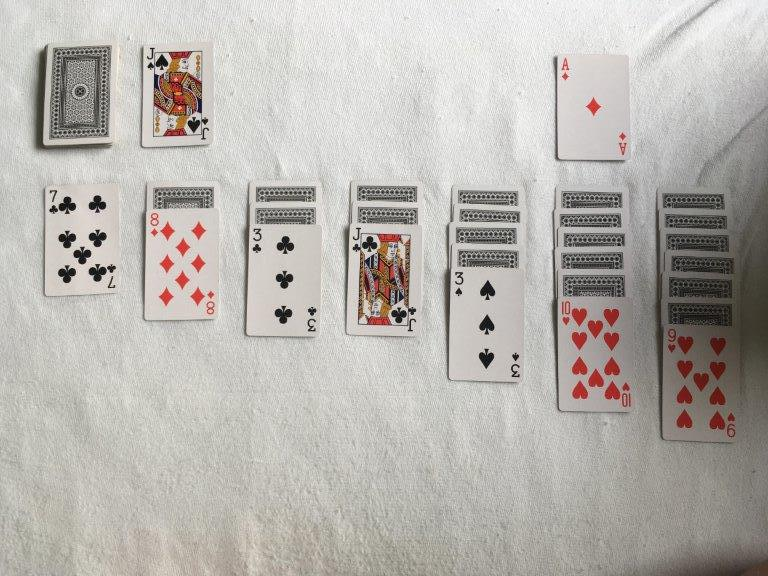10H: (559, 297, 574, 328)
3C: (250, 225, 266, 257)
3S: (452, 267, 466, 299)
7C: (47, 187, 61, 216)
8D: (147, 208, 162, 241)
9H: (666, 325, 678, 357)
AD: (559, 54, 573, 85)
BACK: (42, 39, 121, 146), (661, 296, 739, 324), (661, 270, 739, 297), (557, 268, 631, 296), (146, 181, 220, 208), (451, 242, 525, 267), (659, 227, 736, 251), (554, 245, 630, 269), (657, 185, 732, 209), (555, 184, 629, 208), (664, 249, 741, 272), (351, 199, 425, 222), (448, 221, 524, 243), (250, 200, 322, 223), (248, 180, 323, 202), (658, 207, 734, 228), (553, 206, 630, 226), (452, 202, 526, 222), (350, 180, 424, 200), (557, 226, 632, 245), (452, 184, 525, 203)
JC: (350, 224, 365, 257)
JS: (144, 44, 159, 72)
